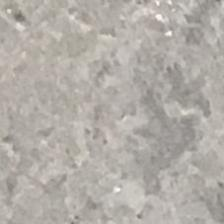Non_Crack: (77, 44, 208, 224)
